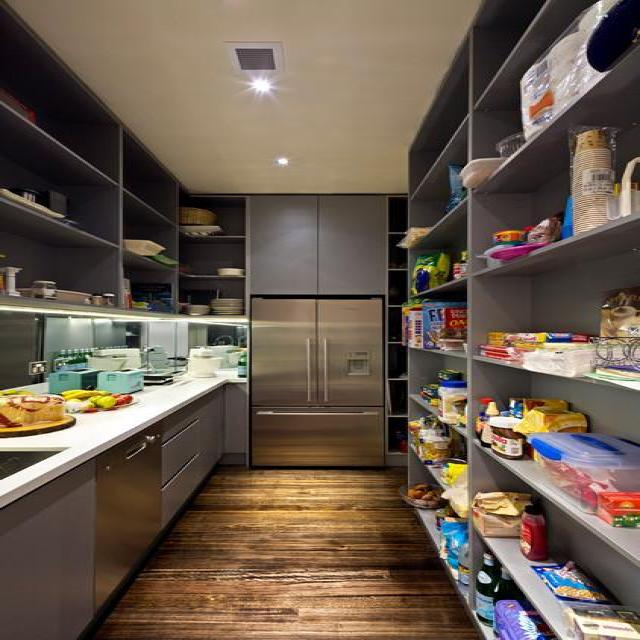dishwasher: (86, 414, 173, 599)
